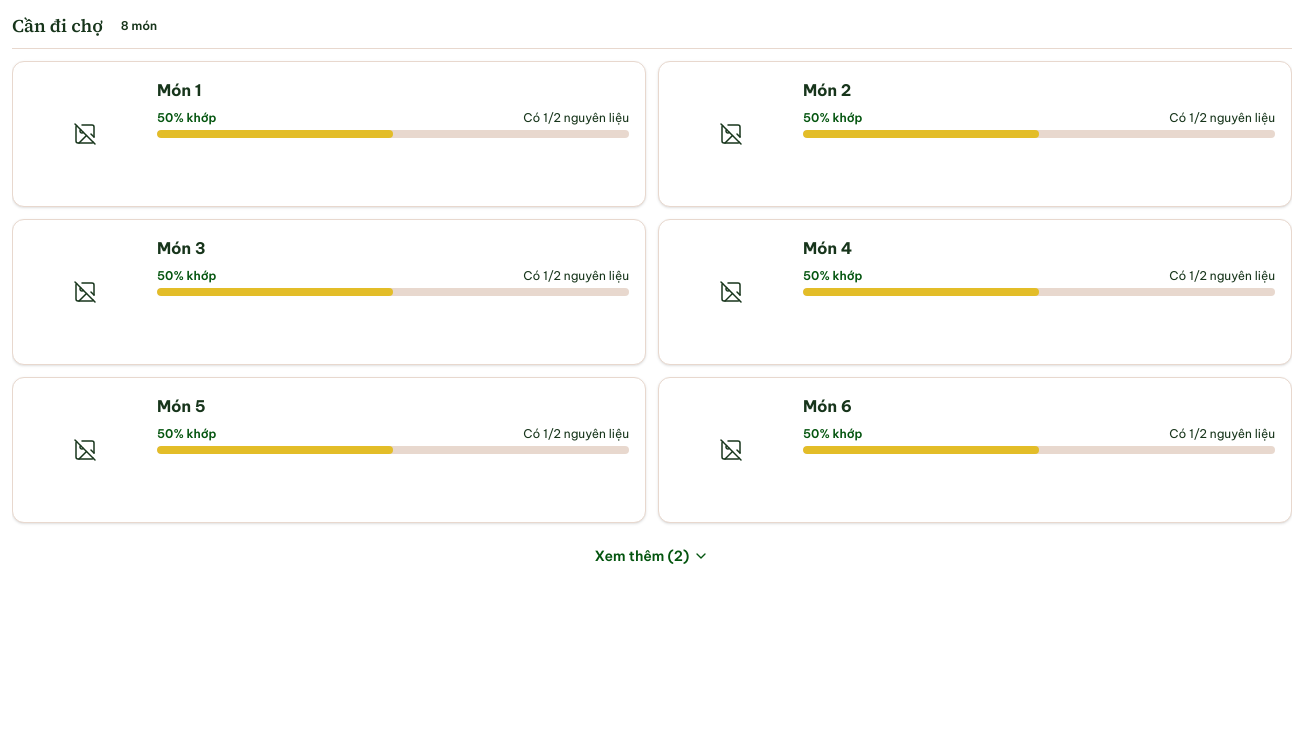
Test case: MatchResultGroup › nhóm có 8 món: hiện 6 món và "Xem thêm (2)", bấm thì hiện đủ 8 (9.3 #11)
Expected: the number of links is 6, [12,61,646,207]; [658,61,1291,207]; [12,219,646,365]; [658,219,1291,365]; [12,377,646,523]; [658,377,1291,523]
What coordinates should you click on to do the following:
click the button "Xem thêm (2)"
I would click on:
 (652, 556)
Its box is [595,546,709,566].
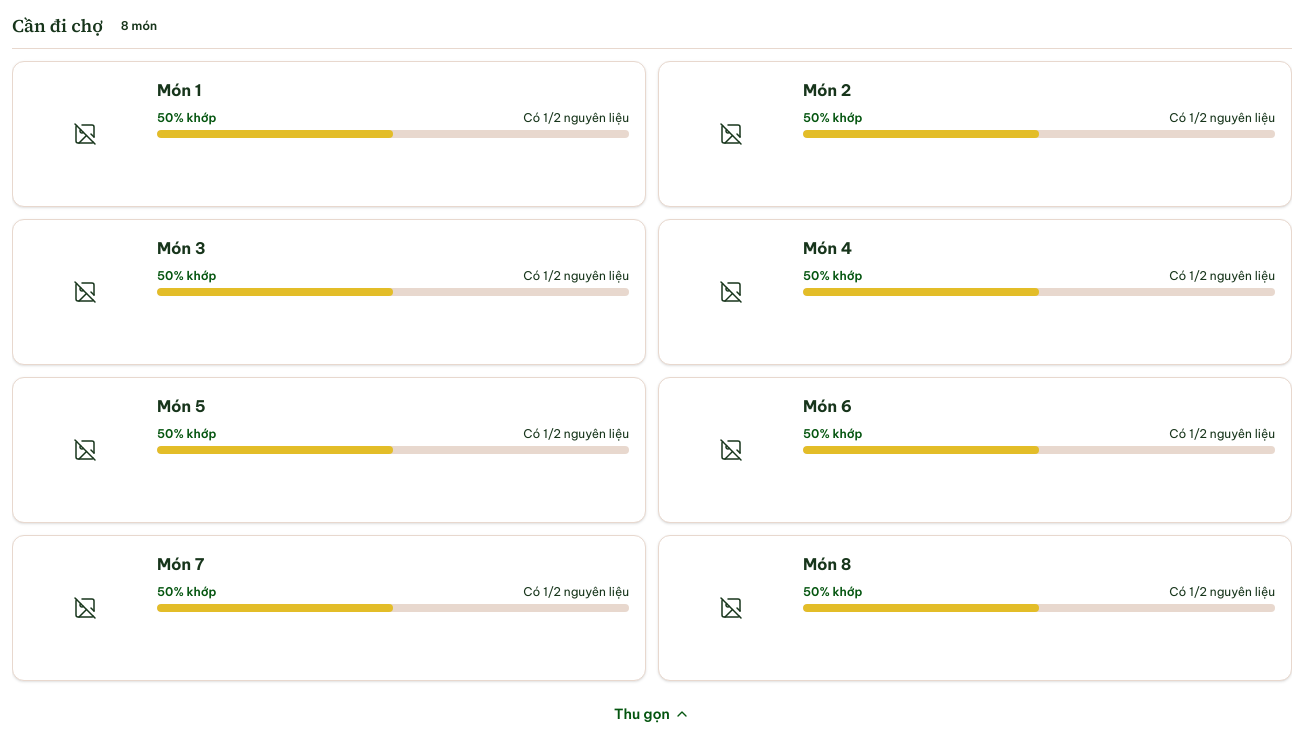
Now the number of links is 8
